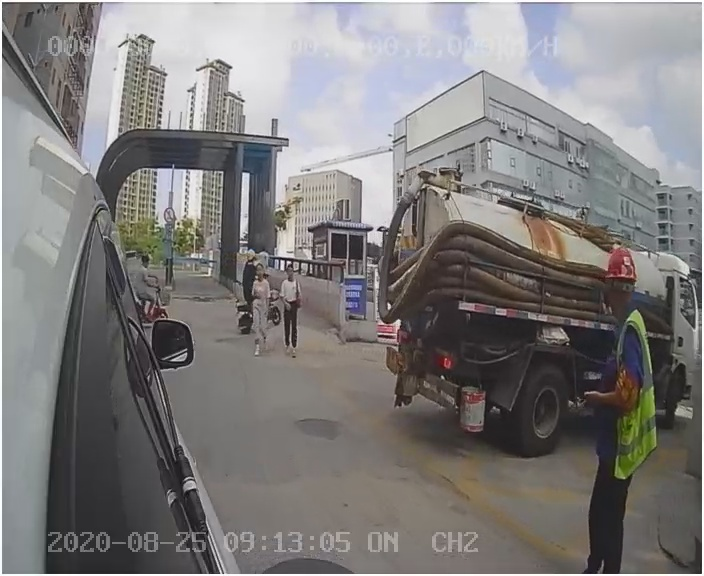person: (591, 250, 662, 571)
